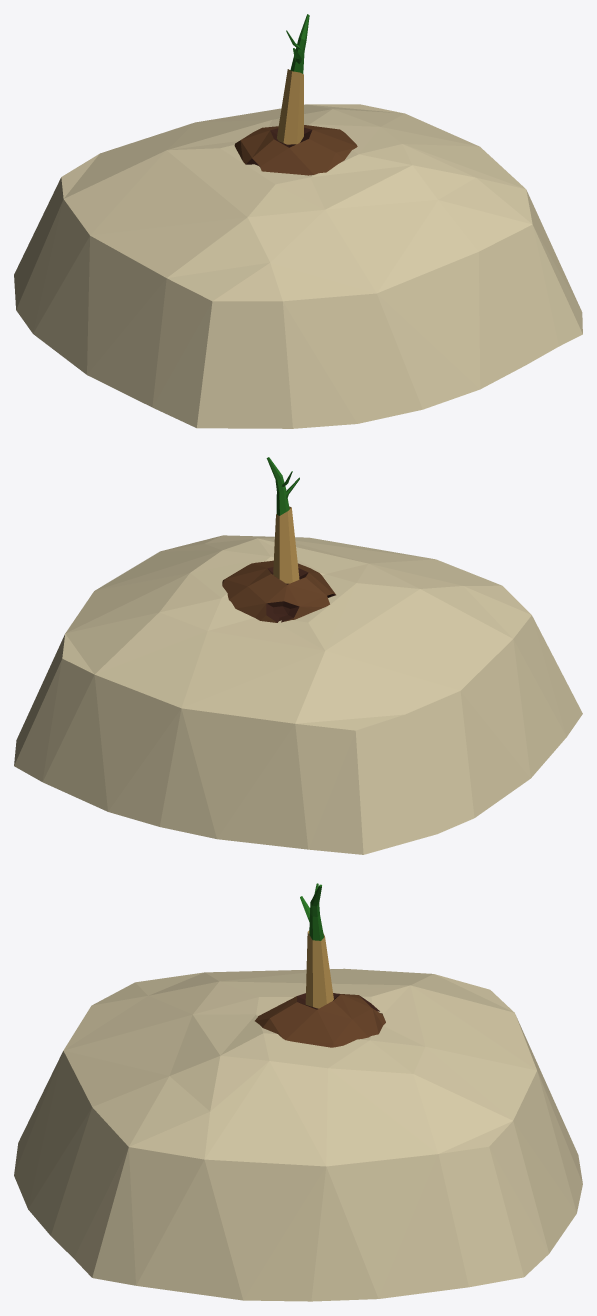
The model's file is PalmG2.fbx.
The picture shows the model from 3 angles, top to bottom: view 1: azimuth 30°, elevation 25°; view 2: azimuth 150°, elevation 25°; view 3: azimuth 270°, elevation 25°; orthographic projection. The views are drawn at different scales.
Parts seen in each view (by area): view 1: Icosphere.007; view 2: Icosphere.007; view 3: Icosphere.007.
Part boxes in pixels (x1,y1,x2,y2): Icosphere.007: (14, 14, 582, 428); Icosphere.007: (14, 457, 582, 854); Icosphere.007: (14, 883, 582, 1301).
Size of the model in its own units: 117 by 116 by 69.2.
